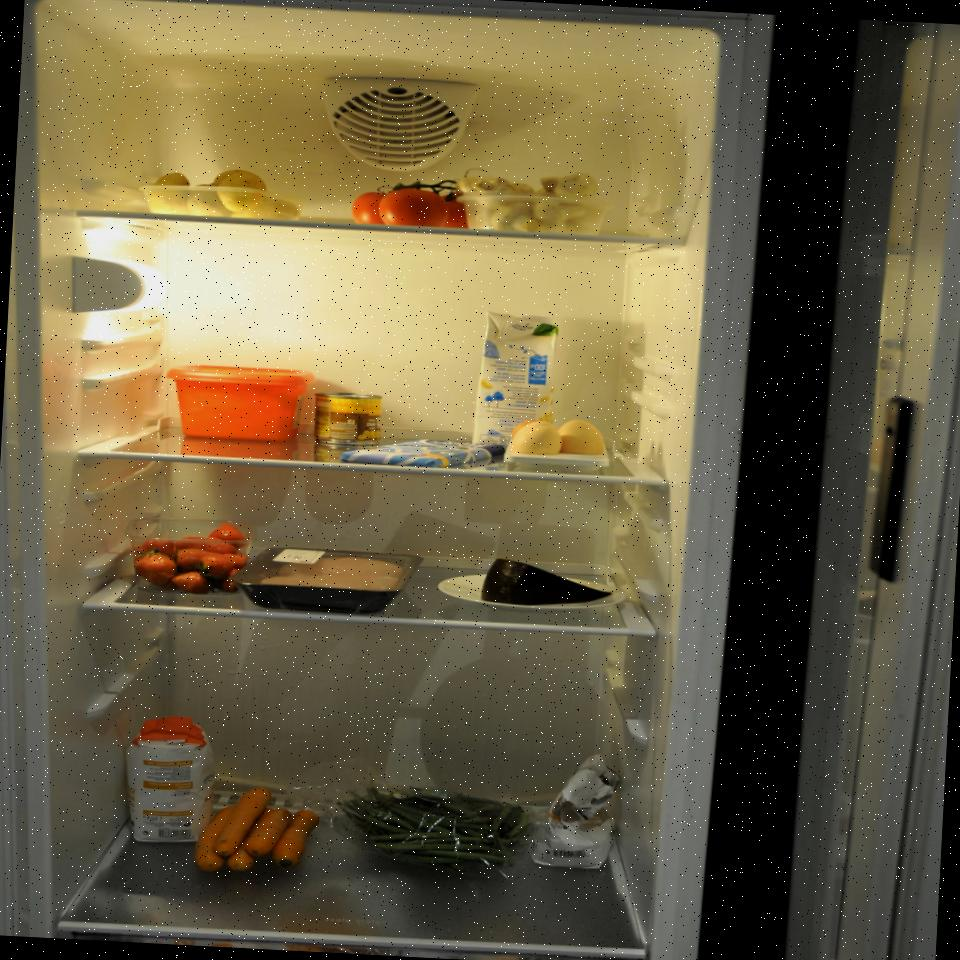Carne pollo: (250, 548, 408, 606)
Huevos: (509, 413, 612, 467)
Leche: (478, 310, 563, 458)
Mantequilla: (162, 363, 314, 447)
Queso: (473, 554, 614, 614)
Tomate: (346, 173, 472, 231)
Zanahoria: (198, 780, 322, 883)
